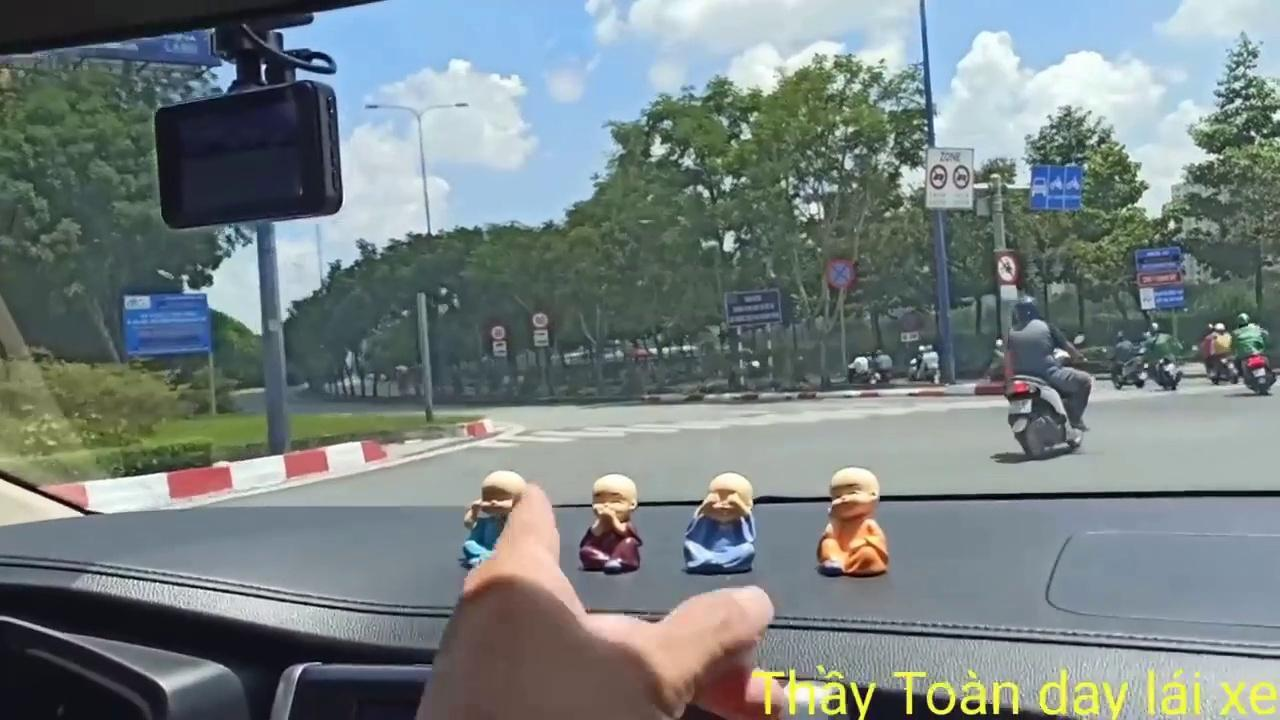Biển phụ: (533, 329, 550, 347), (492, 341, 508, 358)
Cấm cac phương tiện hoạt động trong khung giờ cố định: (922, 144, 976, 212)
Cấm dừng - Cấm đỗ: (826, 256, 856, 289)
Cấm xe máy: (995, 252, 1019, 283)
GIơi hạn tốc độ 60Km/h: (490, 324, 508, 340)
Giới hạn tốc độ 80Km/h: (531, 311, 549, 328)
Khác: (121, 290, 217, 360), (1132, 243, 1188, 312)
Làn đường cho từng xe: (1027, 163, 1084, 212)
